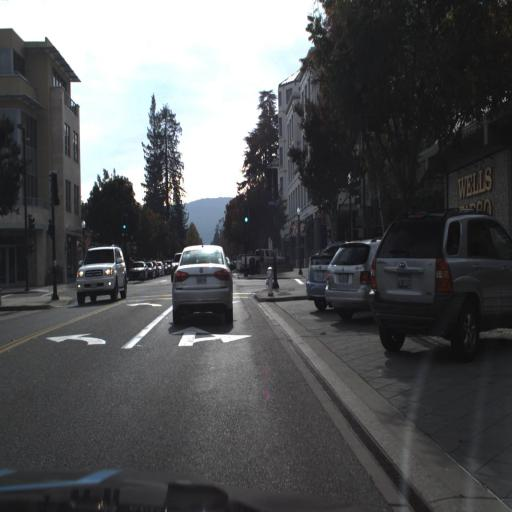car: (367, 204, 511, 365), (168, 233, 238, 330), (322, 233, 374, 328), (70, 239, 128, 305), (300, 242, 330, 312), (126, 257, 150, 285)
trafficLight-Green: (240, 199, 252, 229), (120, 214, 127, 236)
